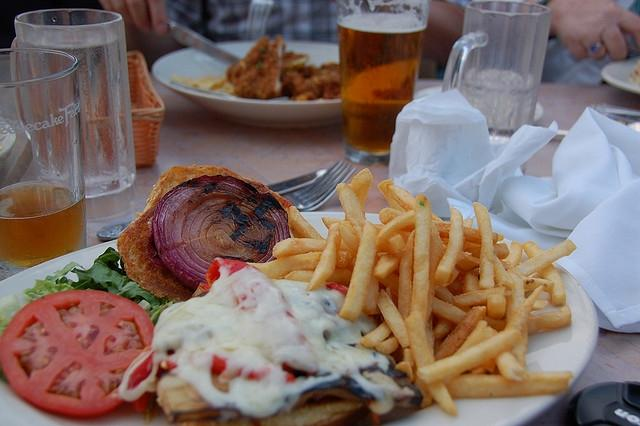lettuce: (71, 260, 160, 309), (22, 279, 58, 302), (159, 297, 168, 306)
onion: (146, 175, 292, 290)
tomato: (0, 290, 155, 419), (202, 258, 256, 290), (212, 355, 226, 376)
